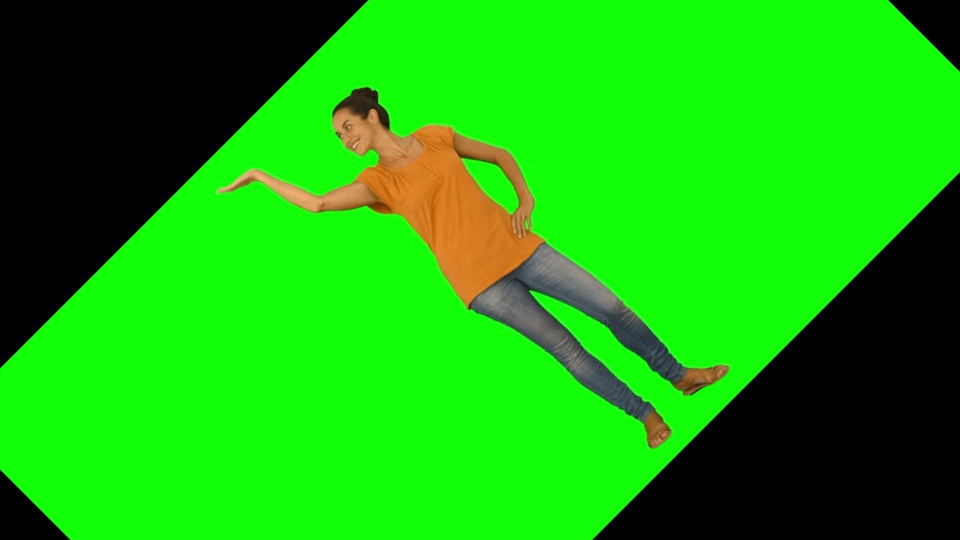arm: (457, 127, 543, 195), (270, 170, 370, 226)
chest: (389, 167, 510, 272)
face: (331, 83, 378, 147)
foot: (635, 404, 678, 453), (682, 365, 737, 391)
hand: (216, 166, 268, 193), (508, 195, 537, 233)
leg: (460, 302, 649, 418), (544, 234, 693, 371)
neck: (379, 124, 417, 166)
